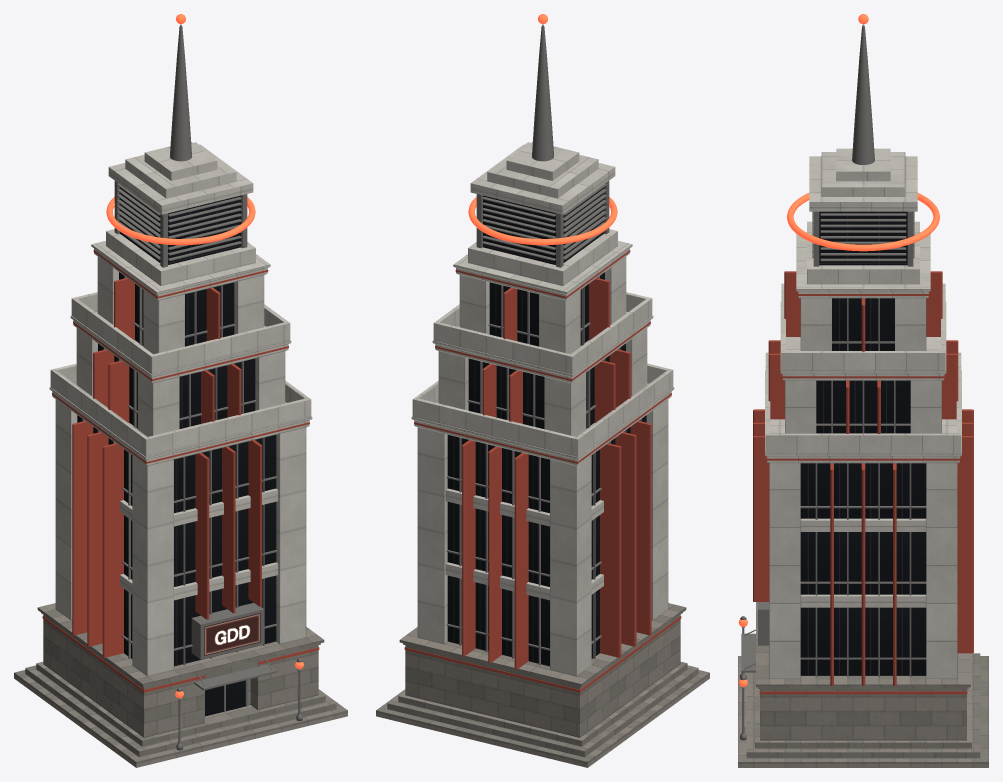
Rendered from s22-get-delivery-dao.glb.
3 renders of one model, left to right at view 1: azimuth 30°, elevation 25°; view 2: azimuth 150°, elevation 25°; view 3: azimuth 270°, elevation 25°, orthographic. The views are drawn at different scales.
Parts seen in each view (by area): view 1: Landmark · Get.Delivery DAO (Series 22); view 2: Landmark · Get.Delivery DAO (Series 22); view 3: Landmark · Get.Delivery DAO (Series 22).
Boxes of the visible parts, x1=… form: Landmark · Get.Delivery DAO (Series 22): x1=14, y1=14, x2=347, y2=767; Landmark · Get.Delivery DAO (Series 22): x1=376, y1=14, x2=709, y2=767; Landmark · Get.Delivery DAO (Series 22): x1=738, y1=14, x2=988, y2=767.
Size of the model in its own units: 12 by 37 by 12.
Materials: 7 (4 with a texture image).
